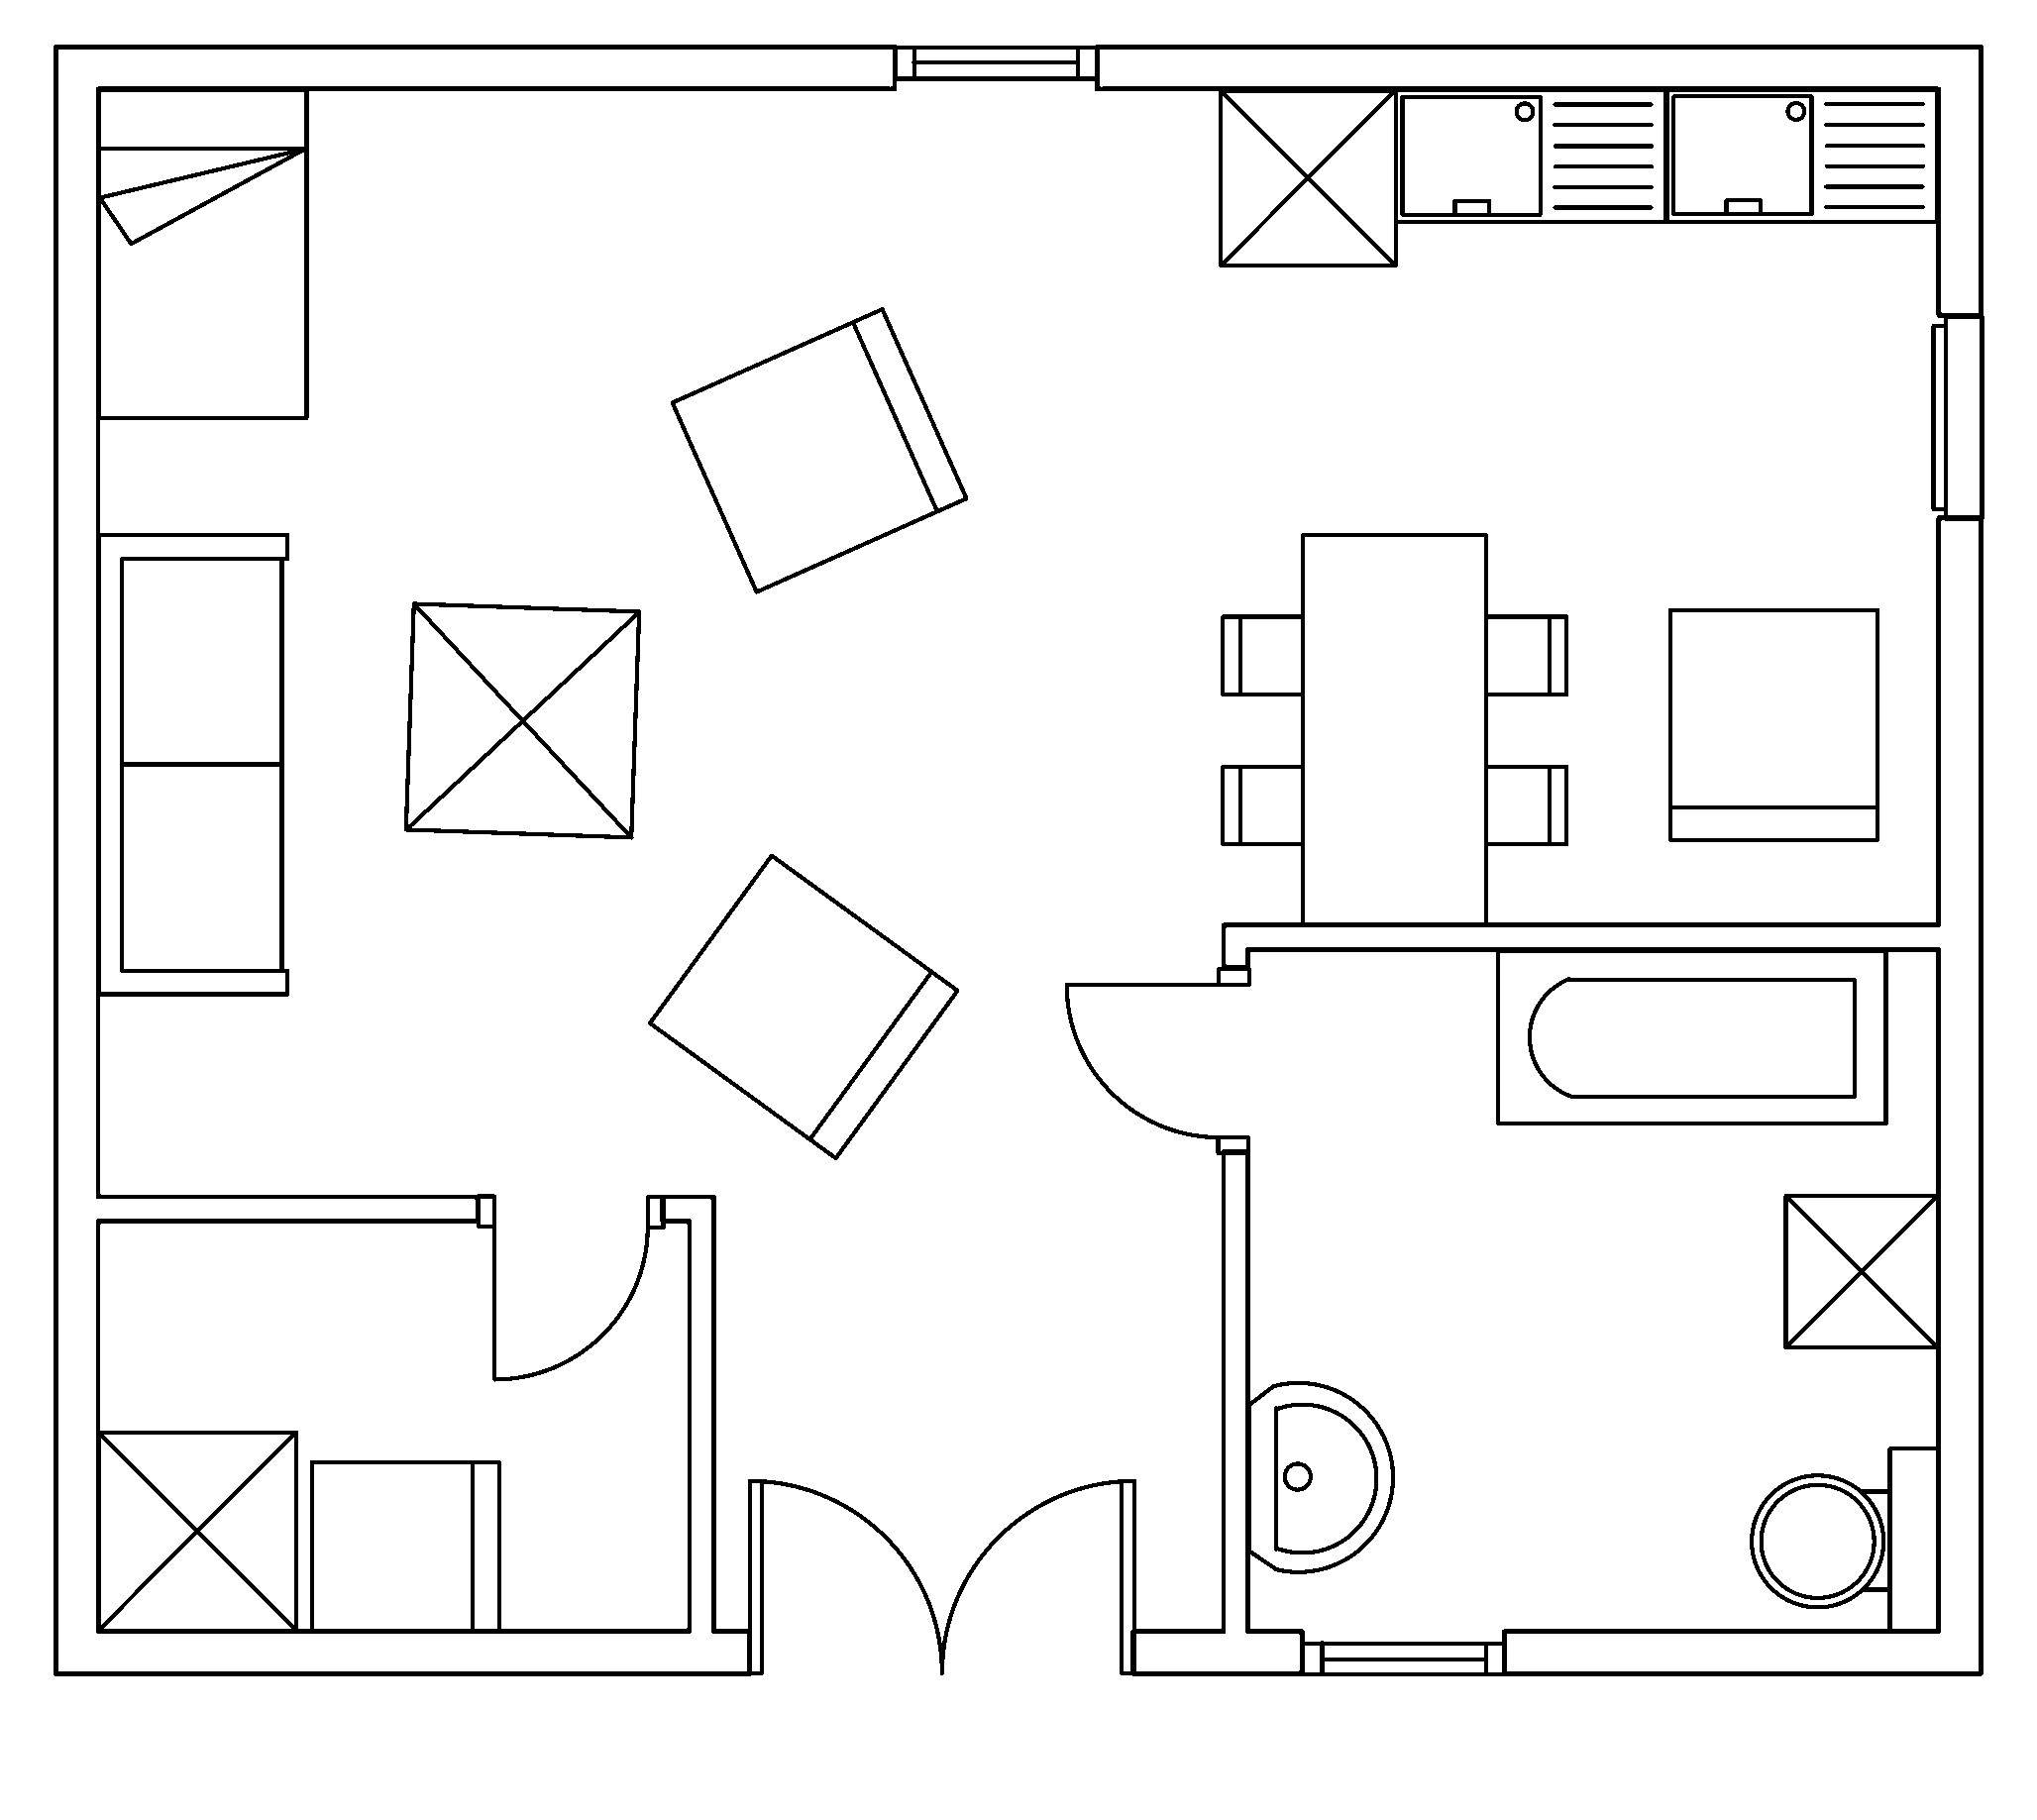bed: (95, 86, 309, 420)
coffee_table: (402, 599, 641, 840), (95, 1428, 299, 1632), (1217, 86, 1398, 267), (1781, 1191, 1940, 1349)
dining_table: (1219, 531, 1568, 926)
large_sink: (1749, 1444, 1940, 1632)
large_sofa: (95, 531, 290, 996)
sink: (1663, 86, 1940, 223), (1393, 86, 1668, 223)
small_sink: (1245, 1381, 1394, 1572)
small_sofa: (646, 850, 961, 1159), (669, 306, 969, 594), (1666, 606, 1879, 841), (307, 1458, 500, 1632)
tub: (1494, 947, 1888, 1126)
